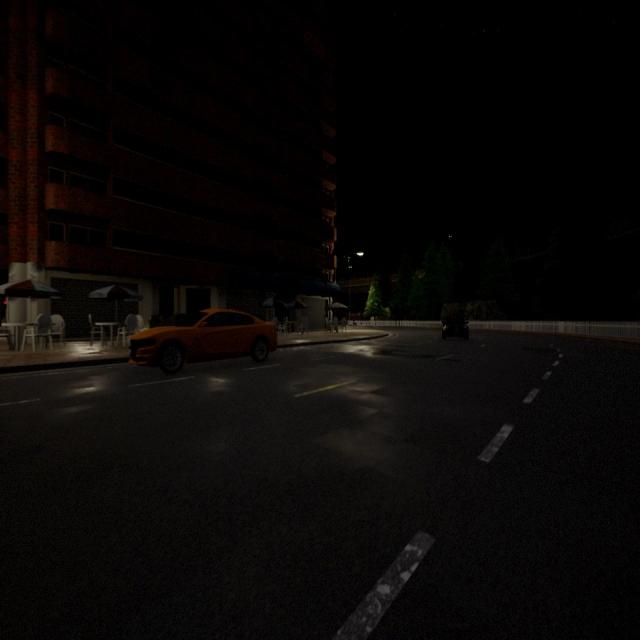Vehicle: (129, 309, 277, 374), (441, 315, 470, 341)
